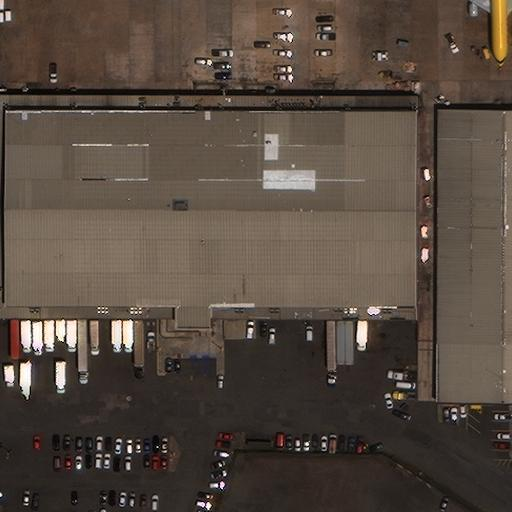Large Civil Transport: (443, 0, 512, 65)
